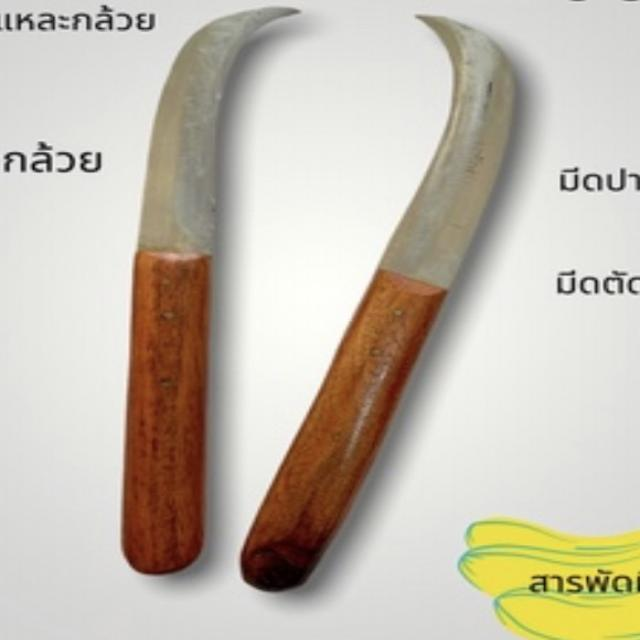Knife: (95, 0, 534, 613)
